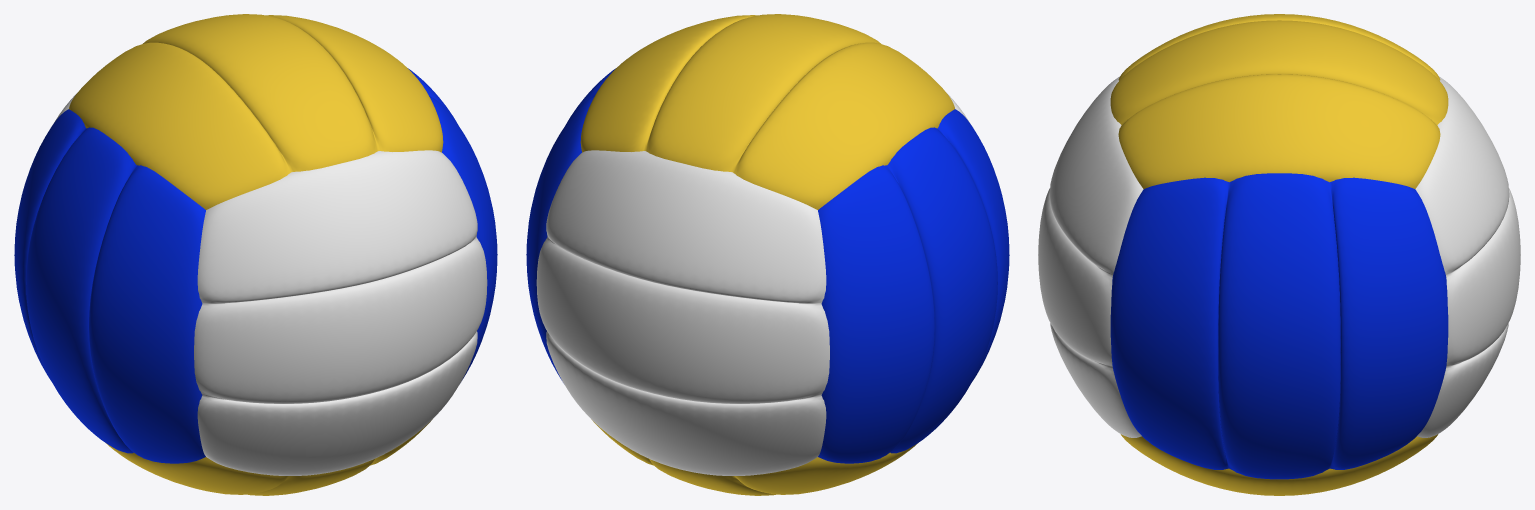
Rendered from VolleyBallBall.fbx.
3 renders of one model, left to right at view 1: azimuth 30°, elevation 25°; view 2: azimuth 150°, elevation 25°; view 3: azimuth 270°, elevation 25°, orthographic.
Parts seen in each view (by area): view 1: volley_ball, volley_ball.002, volley_ball.001; view 2: volley_ball, volley_ball.002, volley_ball.001; view 3: volley_ball.002, volley_ball.001, volley_ball.
Boxes of the visible parts, left/top/right/bottom form: volley_ball: left=54, top=93, right=487, bottom=475; volley_ball.002: left=14, top=68, right=497, bottom=463; volley_ball.001: left=69, top=14, right=443, bottom=495; volley_ball: left=536, top=93, right=969, bottom=475; volley_ball.002: left=526, top=68, right=1009, bottom=463; volley_ball.001: left=580, top=14, right=954, bottom=495; volley_ball.002: left=1110, top=173, right=1448, bottom=479; volley_ball.001: left=1110, top=14, right=1448, bottom=495; volley_ball: left=1038, top=76, right=1520, bottom=437.
Size of the model in its own units: 20.98 by 20.98 by 20.98.
